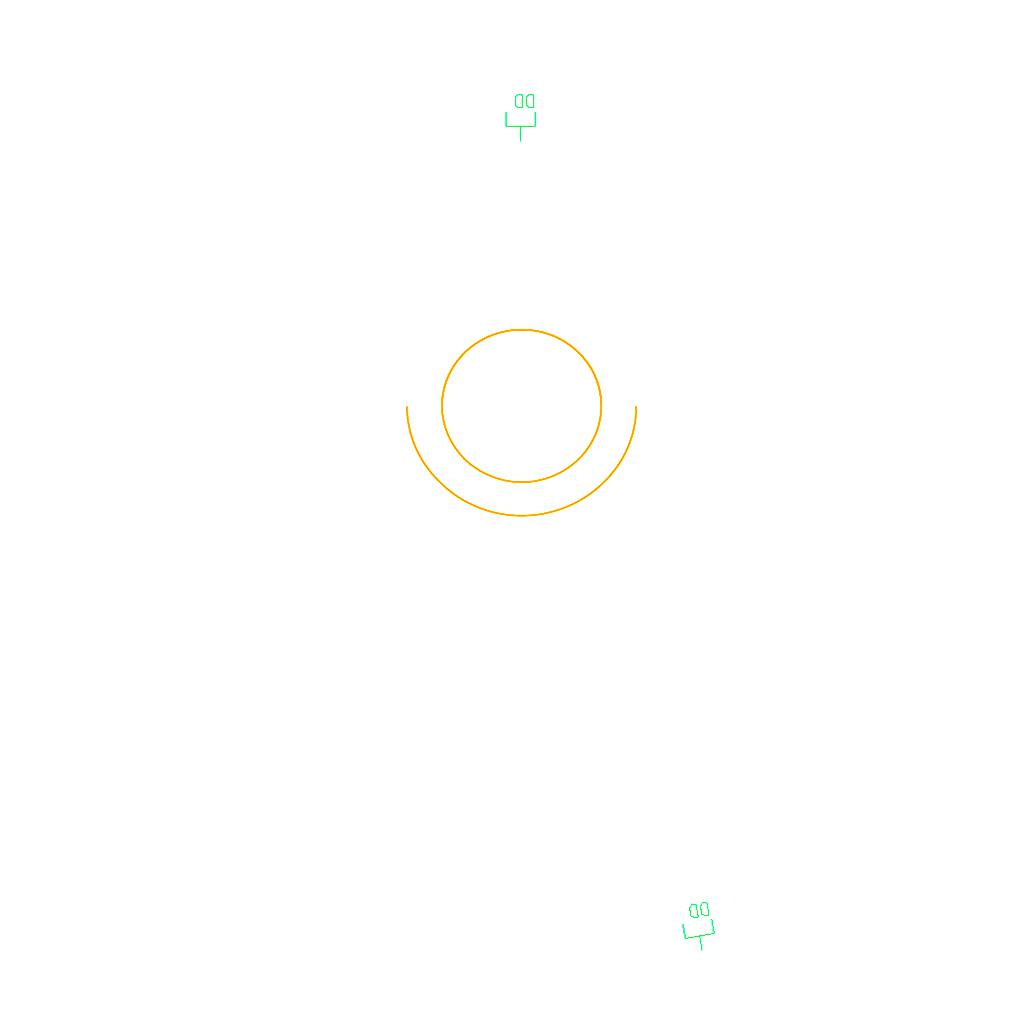Datenanschluss_zweifach: (677, 898, 720, 956), (504, 92, 538, 143)
Scheinwerfer_fuer_Alarmbeleuchtung: (396, 303, 660, 528)
